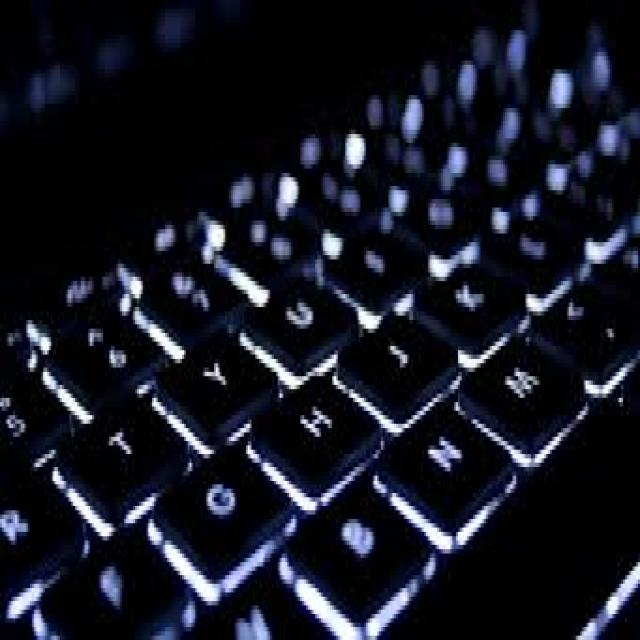others: (4, 26, 636, 631)
